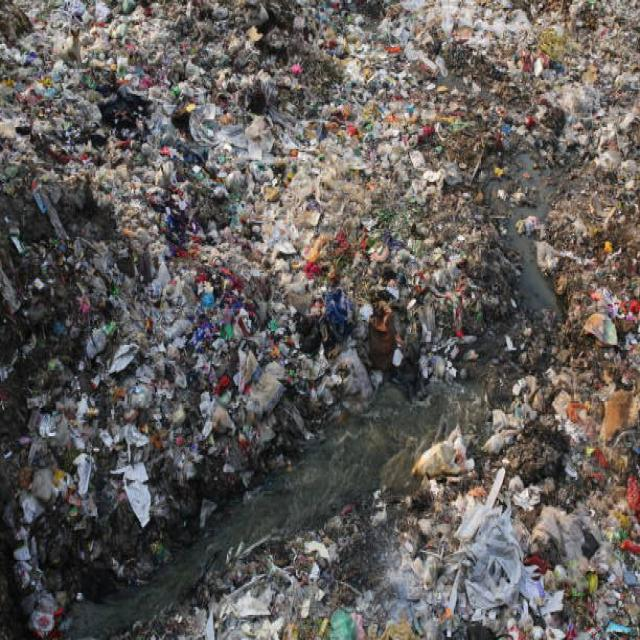trash: (37, 27, 510, 380), (312, 394, 602, 618)
